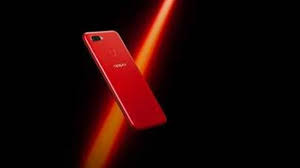oppo: (81, 26, 165, 132)
